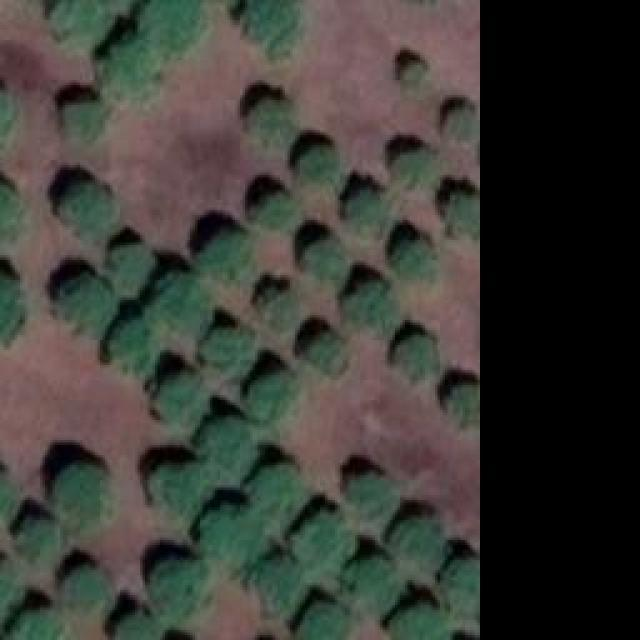Tree: (92, 28, 160, 103), (230, 0, 305, 68), (47, 463, 115, 533), (292, 510, 360, 578), (200, 503, 265, 566), (150, 457, 213, 515), (190, 420, 253, 478), (247, 460, 305, 523), (135, 0, 205, 52), (148, 552, 208, 610), (383, 512, 443, 570), (55, 275, 115, 330), (348, 555, 401, 615), (60, 175, 113, 233), (153, 278, 208, 331), (42, 0, 109, 42), (438, 553, 481, 616), (60, 565, 110, 618), (390, 600, 455, 640), (107, 318, 155, 371), (155, 365, 203, 418), (255, 558, 300, 611), (347, 470, 395, 518), (245, 93, 290, 143), (297, 235, 345, 280), (347, 280, 395, 325), (303, 600, 356, 640), (250, 372, 293, 420), (340, 185, 388, 228), (108, 243, 151, 288), (248, 188, 293, 231), (210, 330, 253, 375), (390, 150, 438, 190), (203, 233, 246, 276), (65, 98, 110, 138), (0, 185, 30, 243), (440, 193, 480, 236), (0, 270, 25, 338), (7, 612, 65, 640), (18, 518, 53, 563), (253, 288, 298, 323), (0, 565, 28, 620), (293, 145, 333, 183), (305, 330, 345, 368), (440, 103, 475, 146), (443, 385, 478, 428), (400, 332, 438, 370), (115, 610, 163, 640), (393, 240, 433, 275), (0, 464, 22, 527), (0, 85, 18, 153), (395, 55, 428, 88)
